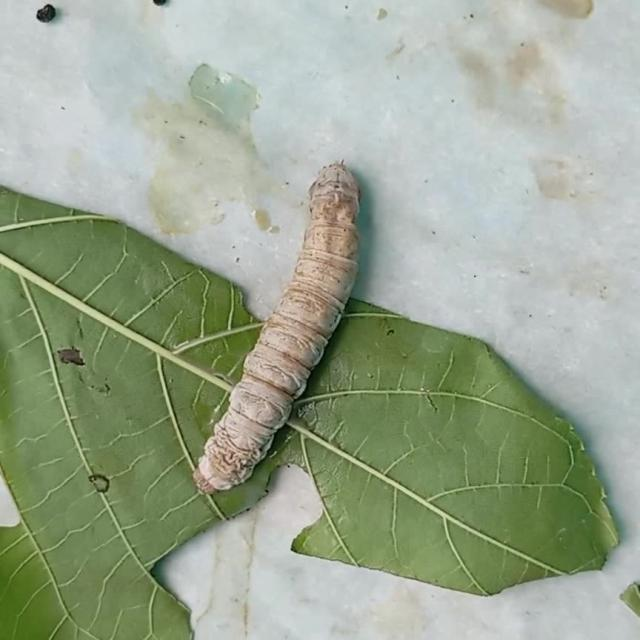Grasserie: (181, 152, 379, 504)
